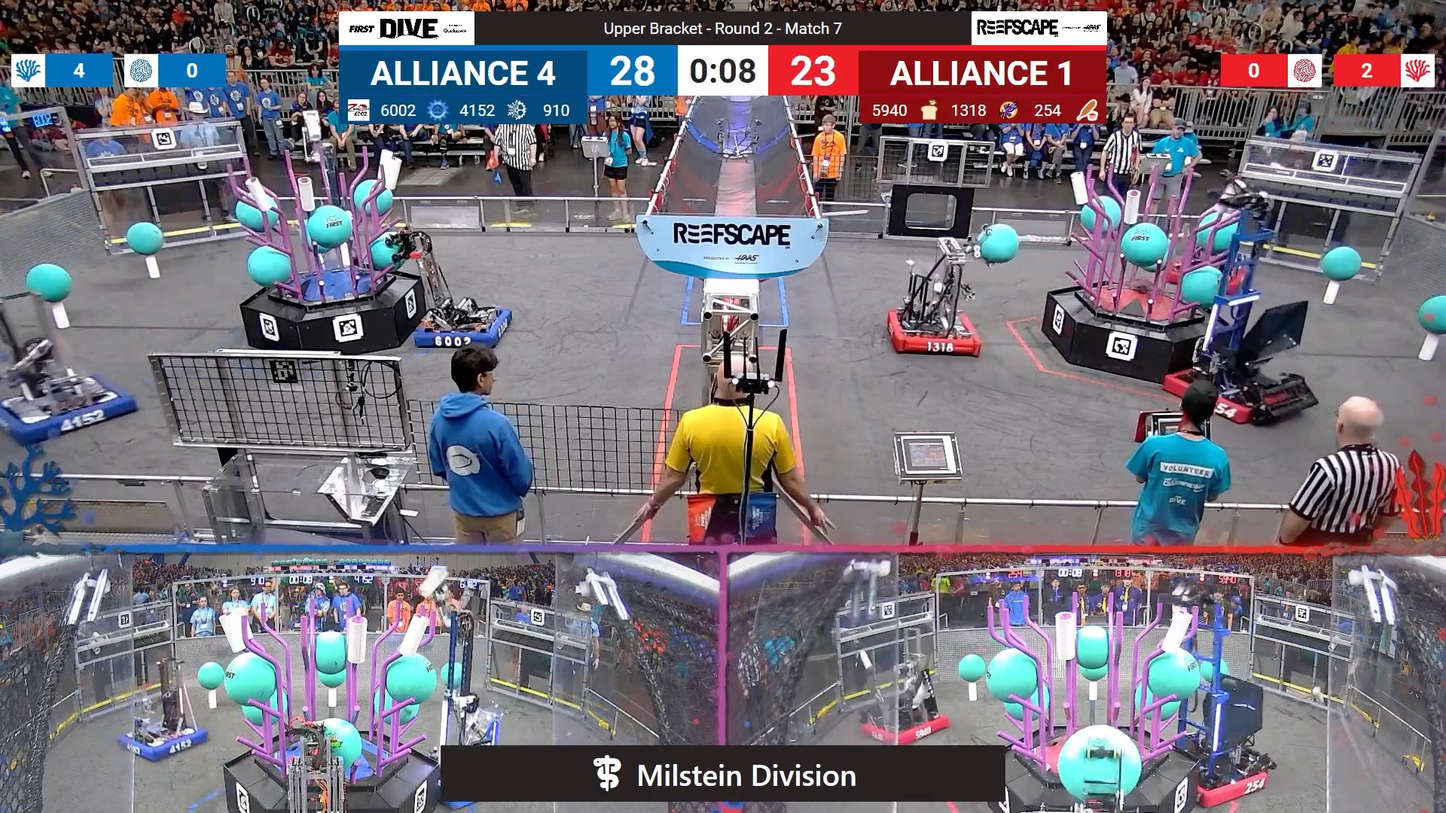bumpers: (0, 371, 137, 447), (1159, 365, 1309, 430), (885, 304, 995, 366), (404, 292, 513, 352), (1165, 753, 1275, 808), (113, 722, 215, 767), (851, 711, 952, 745)
